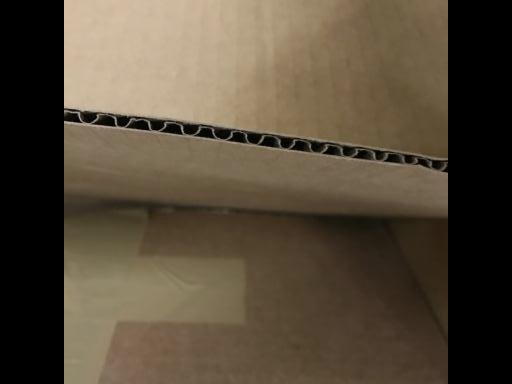cardboard: (72, 6, 445, 383)
